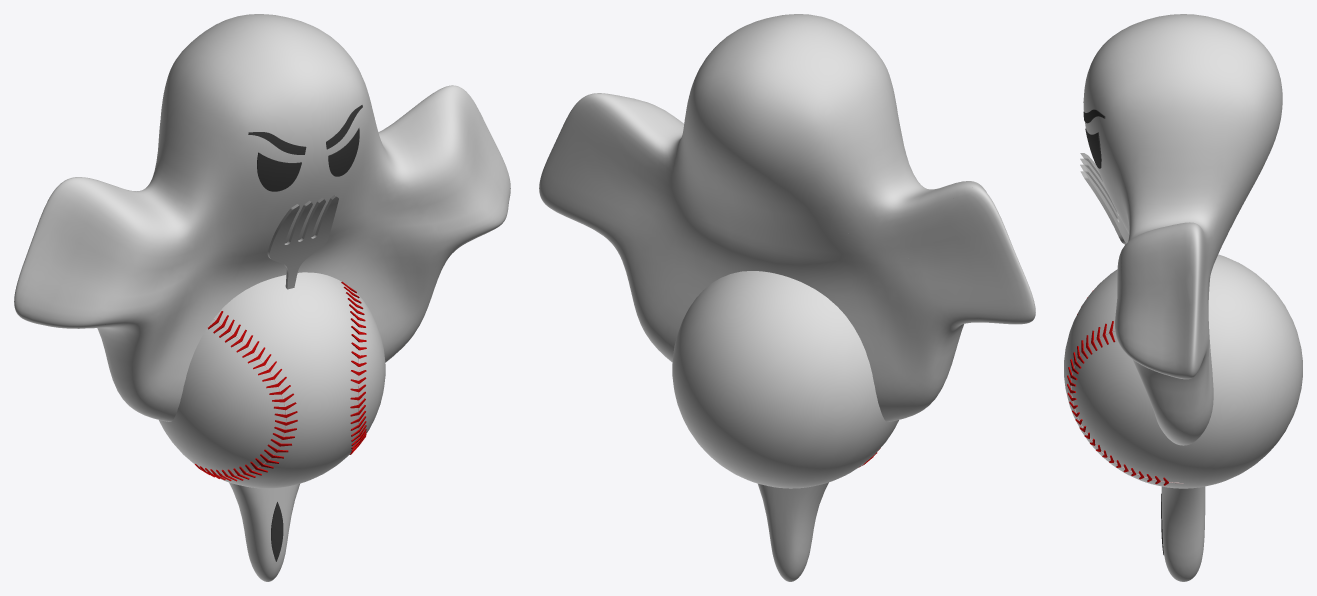
The picture shows the model from 3 angles, left to right: view 1: azimuth 30°, elevation 25°; view 2: azimuth 150°, elevation 25°; view 3: azimuth 270°, elevation 25°; orthographic projection.
Parts seen in each view (by area): view 1: 010_GFolk_180; view 2: 010_GFolk_180; view 3: 010_GFolk_180.
Part boxes in pixels (box(x1,y1,x2,y2)): 010_GFolk_180: box(14, 14, 510, 581); 010_GFolk_180: box(539, 14, 1035, 581); 010_GFolk_180: box(1064, 14, 1302, 581).
Bounding box in the file's own units: 0.1679 × 0.1802 × 0.0698.
